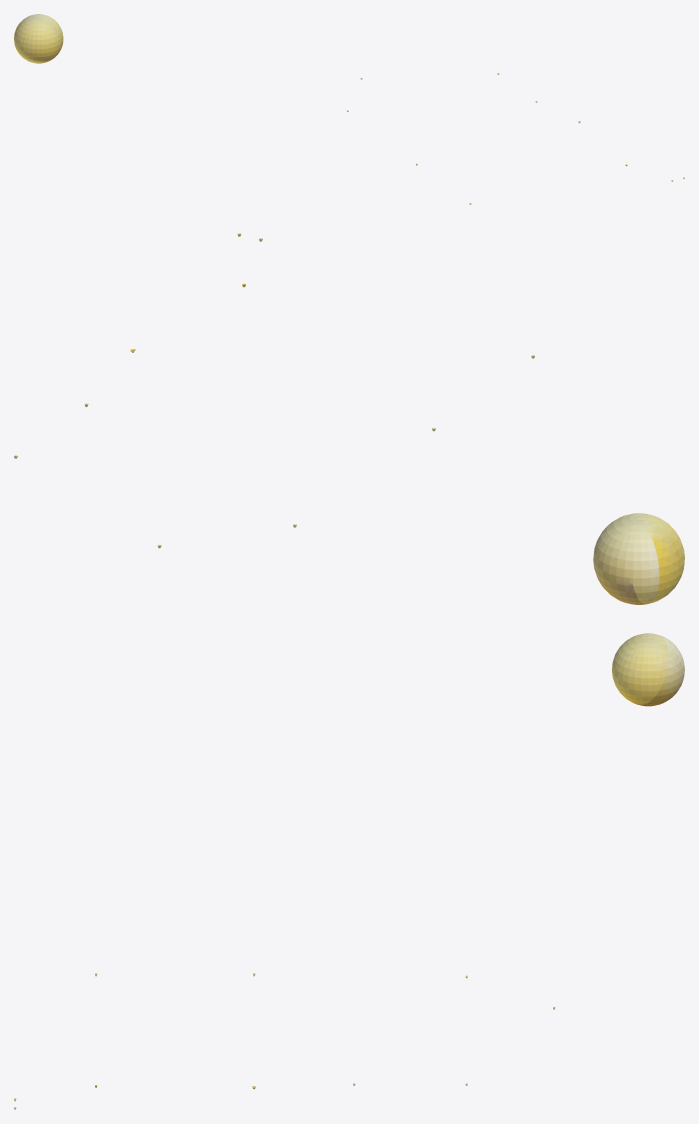
File: alumbrado.glb
The picture shows the model from 3 angles, top to bottom: view 1: azimuth 30°, elevation 25°; view 2: azimuth 150°, elevation 25°; view 3: azimuth 270°, elevation 25°; orthographic projection. The views are drawn at different scales.
Parts seen in each view (by area): view 1: Sphere; view 2: Sphere; view 3: Sphere.
Part boxes in pixels (box(x1,y1,x2,y2)): Sphere: box(14, 14, 63, 63); Sphere: box(593, 513, 684, 604); Sphere: box(612, 633, 684, 706).
Bounding box in the file's own units: 526 × 123 × 458.
1 material, 1 textured.
